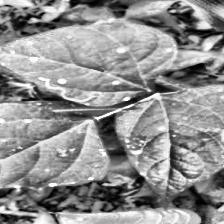Bean Rust: (0, 20, 180, 103), (114, 86, 224, 207), (0, 99, 110, 199)
